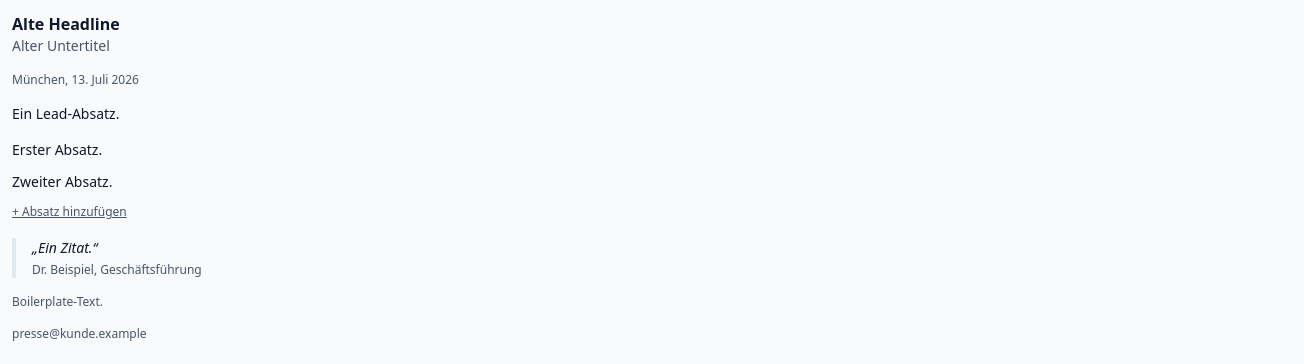
Test: PressemitteilungEditor -- Optimistic UI und Rollback › zeigt eine Änderung sofort an, bevor die Server-Action antwortet (optimistic)
Press Enter in the button with aria-label "Überschrift", box [12,12,1292,36]
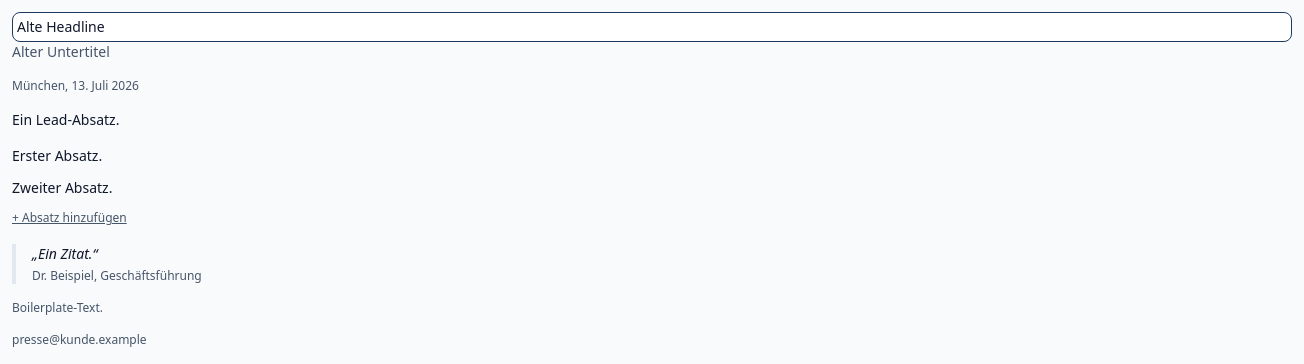
Replace the text in the field named "Überschrift" with "Neue Headline" at (652, 27), box [12,12,1292,42]
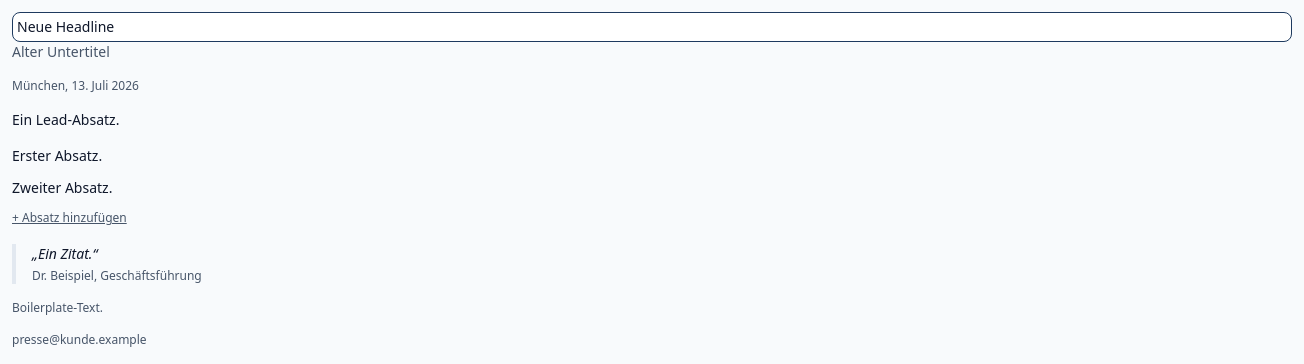
Press Enter in the field named "Überschrift", box [12,12,1292,42]
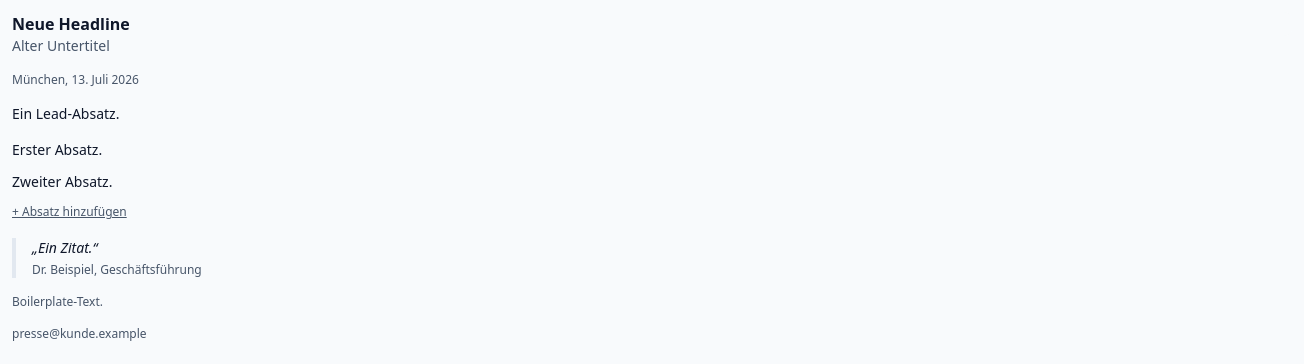
Check: the heading "Alte Headline" is not shown
Check: the heading "Neue Headline" is shown, box [12,13,130,35]
